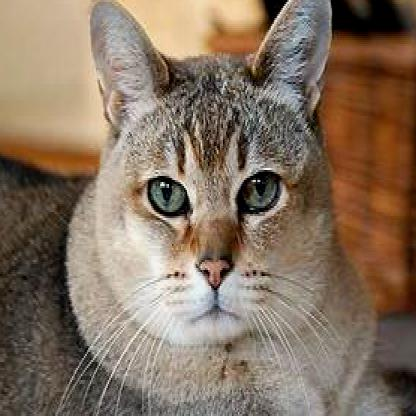cat: (2, 0, 407, 414)
